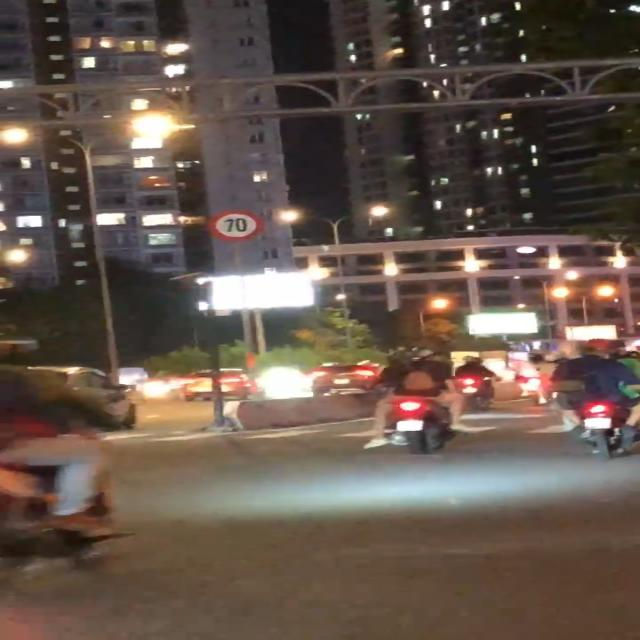Bien bao toc do toi da cho phep: (204, 208, 266, 243)
